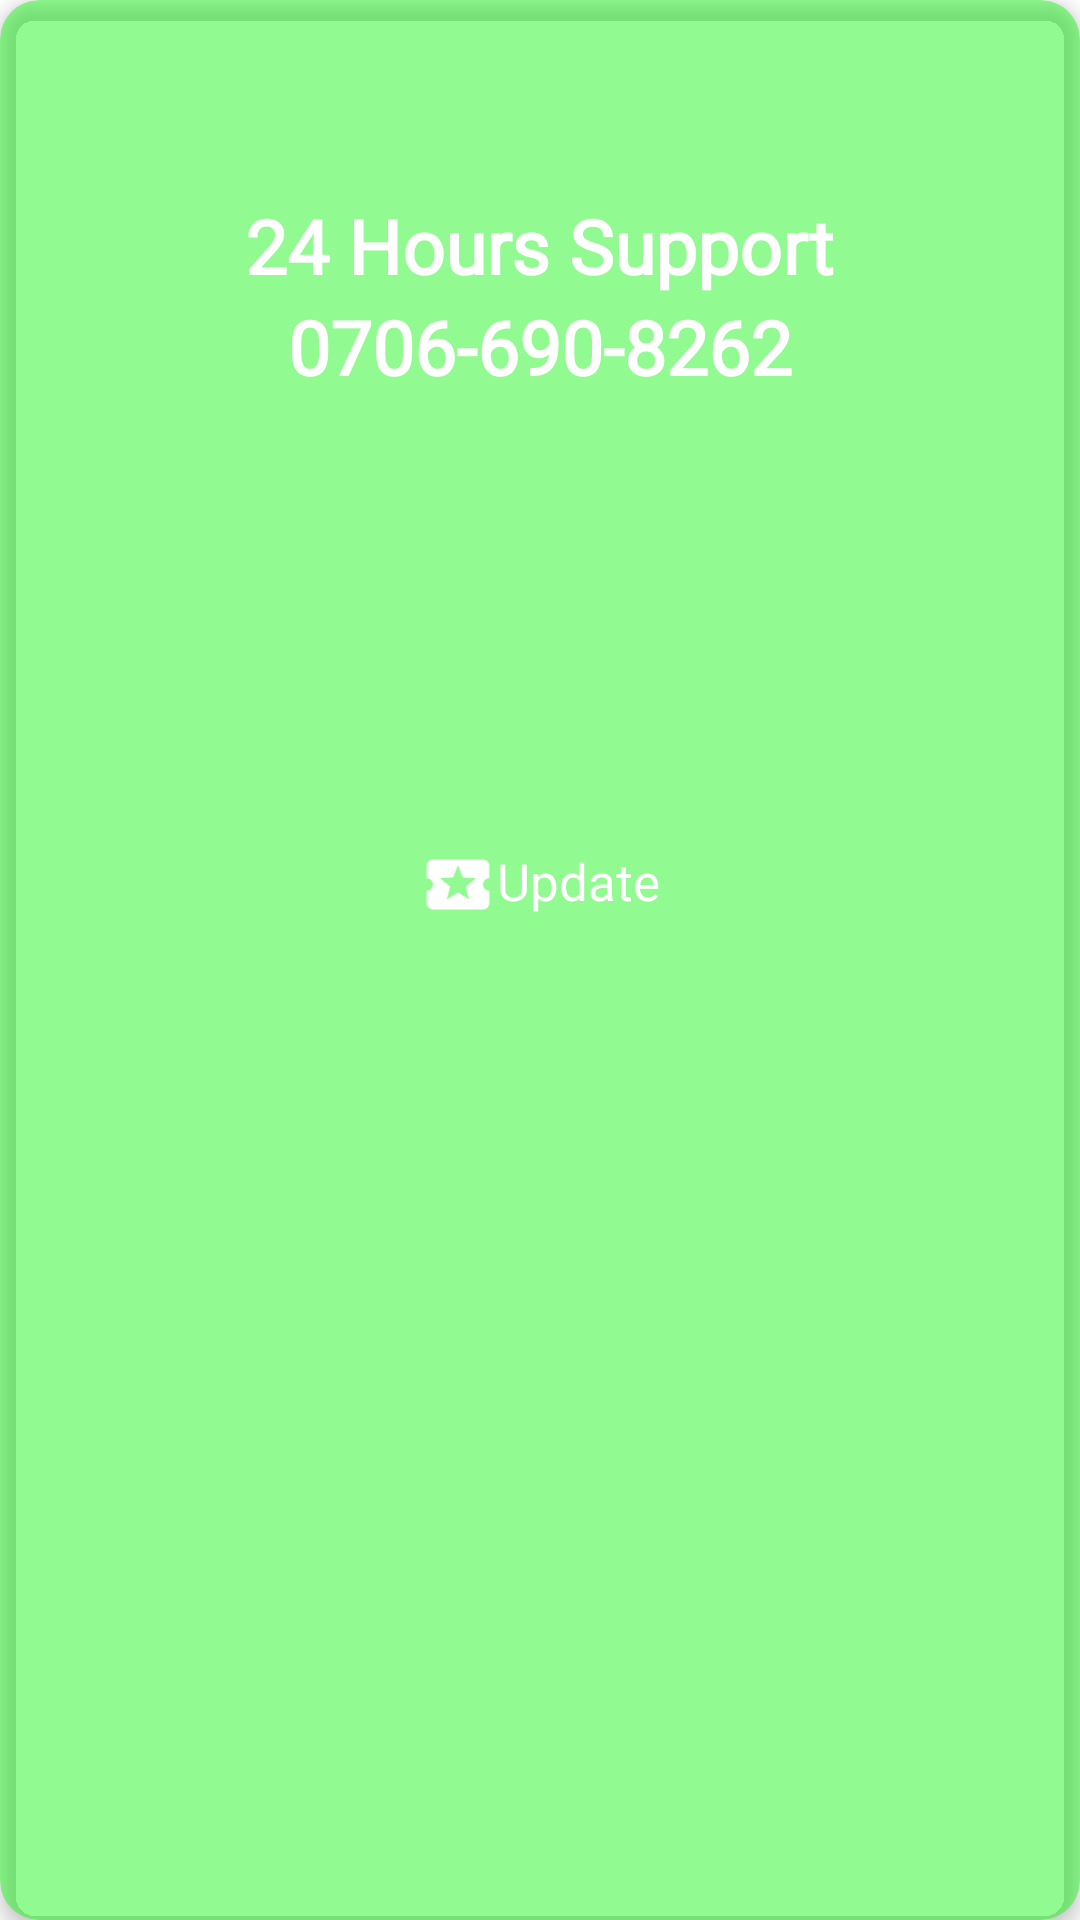

Point at icon controls on the screen. Image size 1080px×1920px, points as (x,y).
local activity: (458,884)
